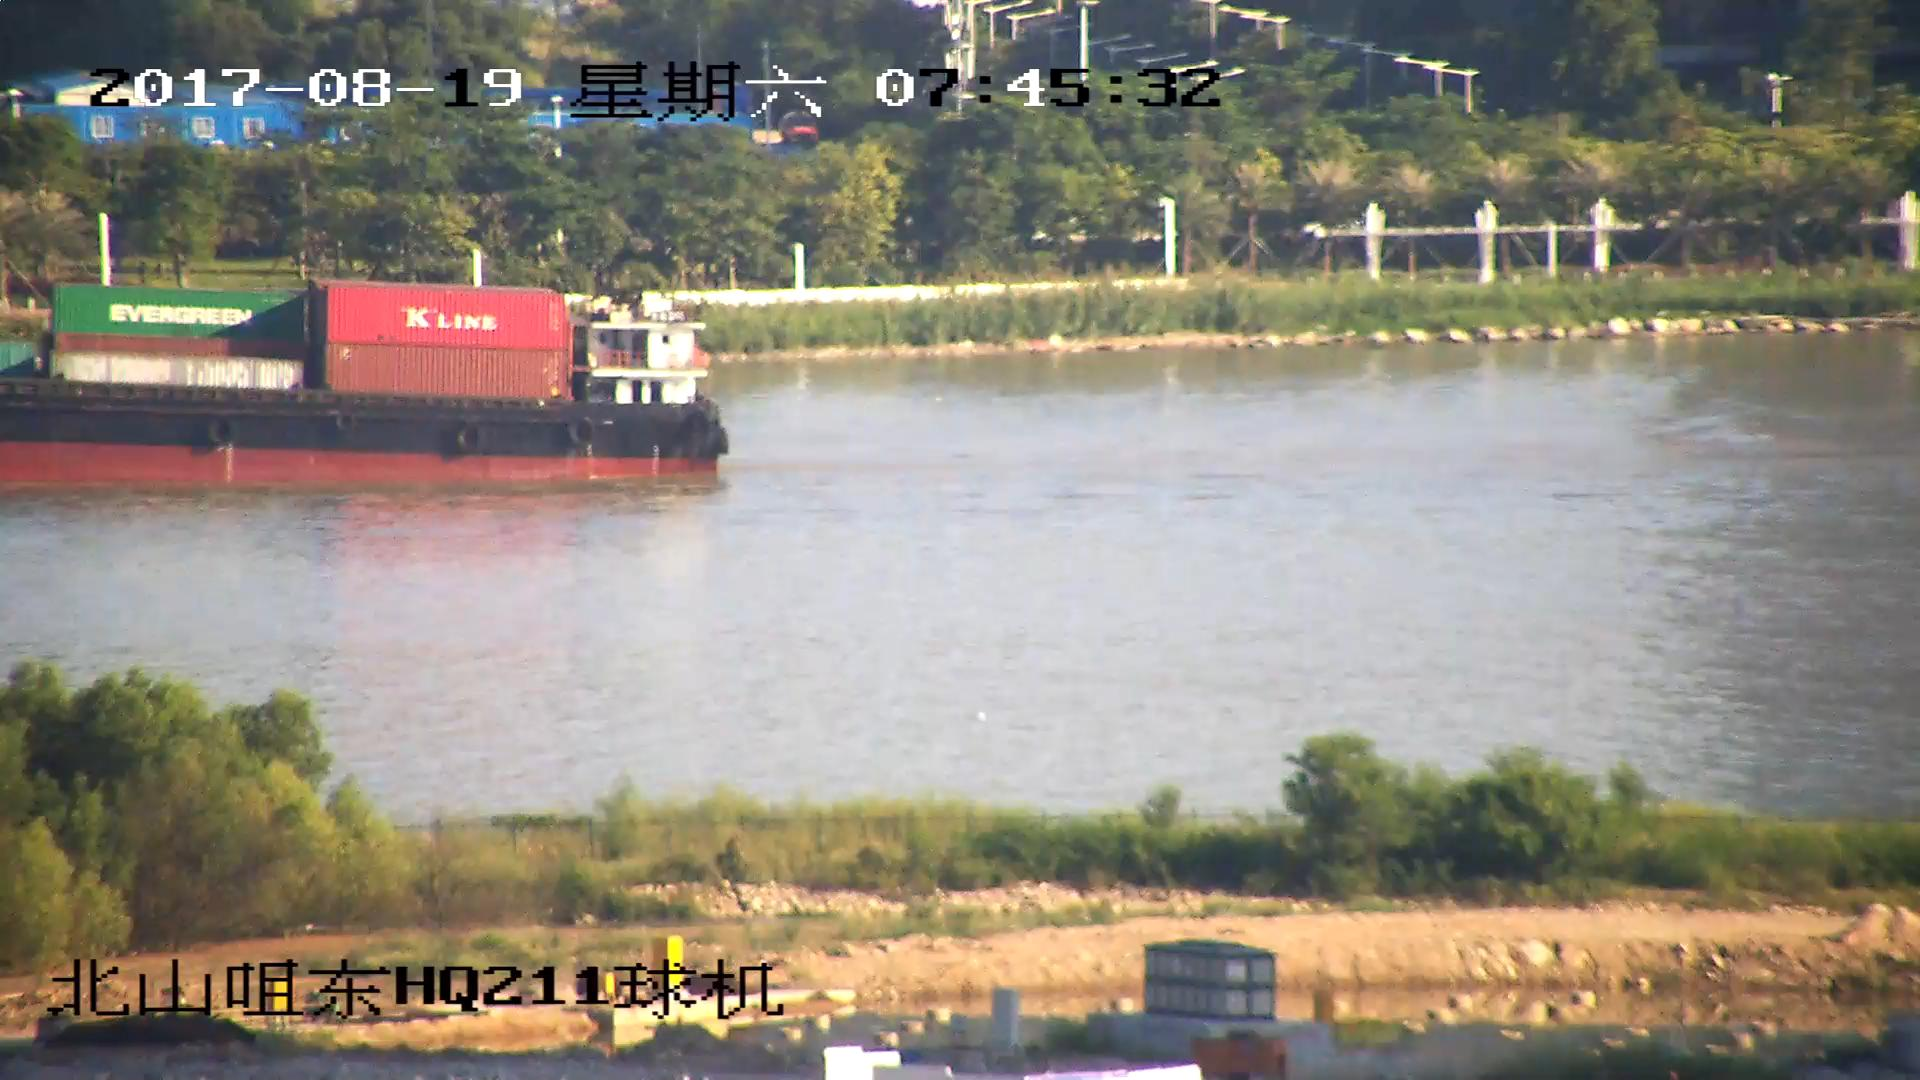container ship: (1, 279, 724, 488)
